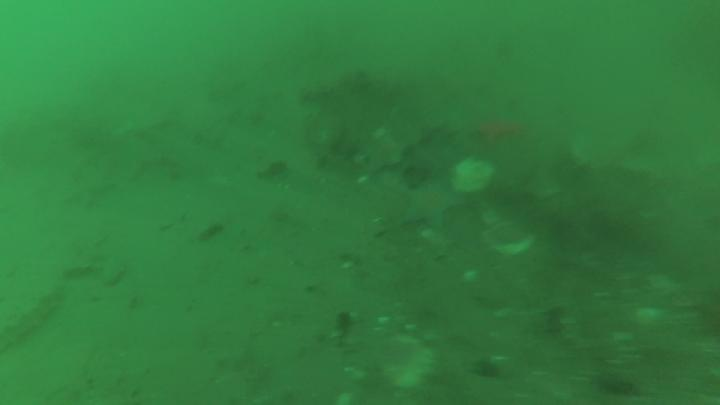holothurian: (3, 283, 65, 352)
scallop: (454, 156, 496, 193)
starfish: (403, 178, 461, 232)
